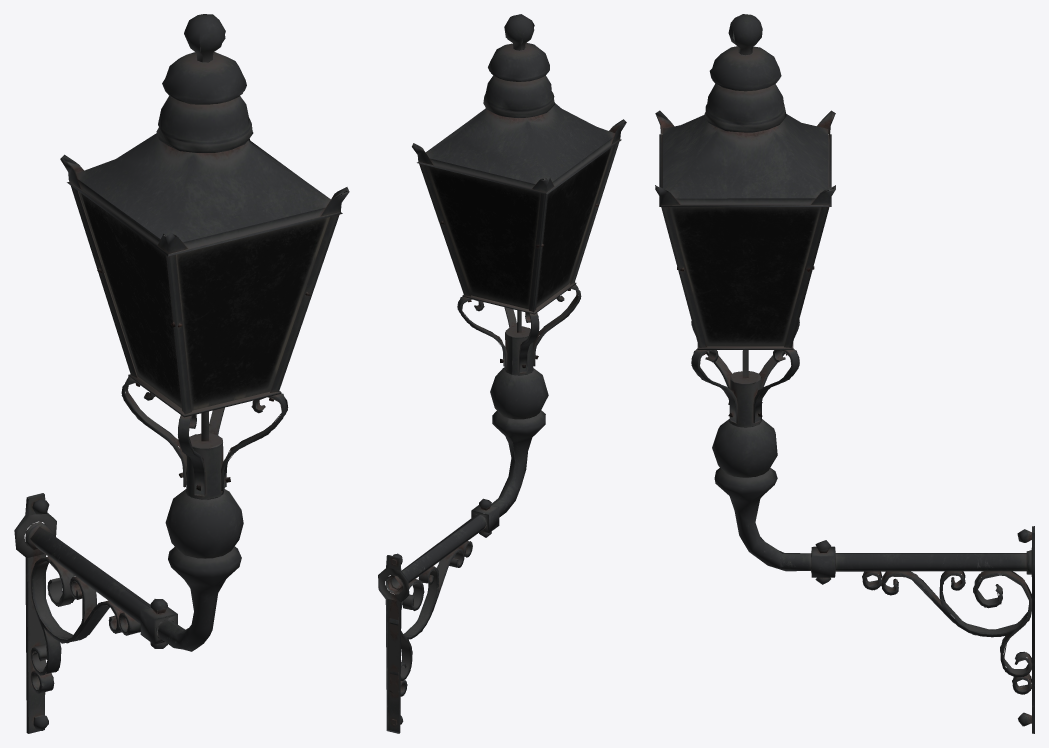
File: street_lamp.glb
3 views of the same model, side by side, from view 1: azimuth 30°, elevation 25°; view 2: azimuth 150°, elevation 25°; view 3: azimuth 270°, elevation 25° (orthographic). The views are drawn at different scales.
Parts seen in each view (by area): view 1: street_lamp; view 2: street_lamp; view 3: street_lamp.
Boxes of the visible parts, <box> form: street_lamp: <box>14,14,349,733</box>; street_lamp: <box>378,14,626,733</box>; street_lamp: <box>655,14,1034,733</box>.
Size of the model in its own units: 0.3839 by 1.67 by 0.8055.
Materials: 3 (3 with a texture image).
